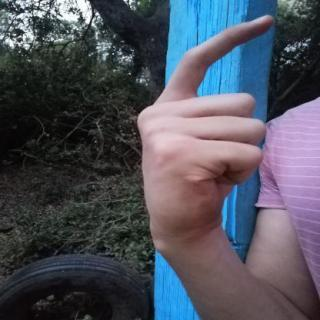RAA: (126, 5, 288, 254)
